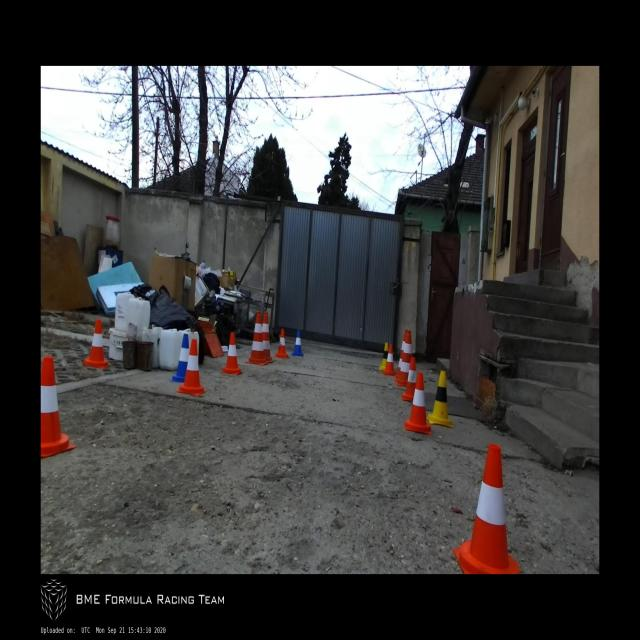blue_cone: (170, 333, 190, 382), (291, 329, 304, 356)
large_orange_cone: (245, 311, 269, 366), (395, 331, 412, 386), (394, 329, 408, 382), (262, 312, 275, 363)
orange_cone: (453, 444, 520, 574), (41, 356, 77, 458), (176, 339, 207, 395), (405, 372, 432, 434), (82, 319, 110, 369), (220, 332, 242, 376), (402, 357, 417, 401), (274, 328, 289, 358), (382, 344, 396, 374)
yellow_cone: (426, 371, 454, 428), (379, 342, 389, 370)
